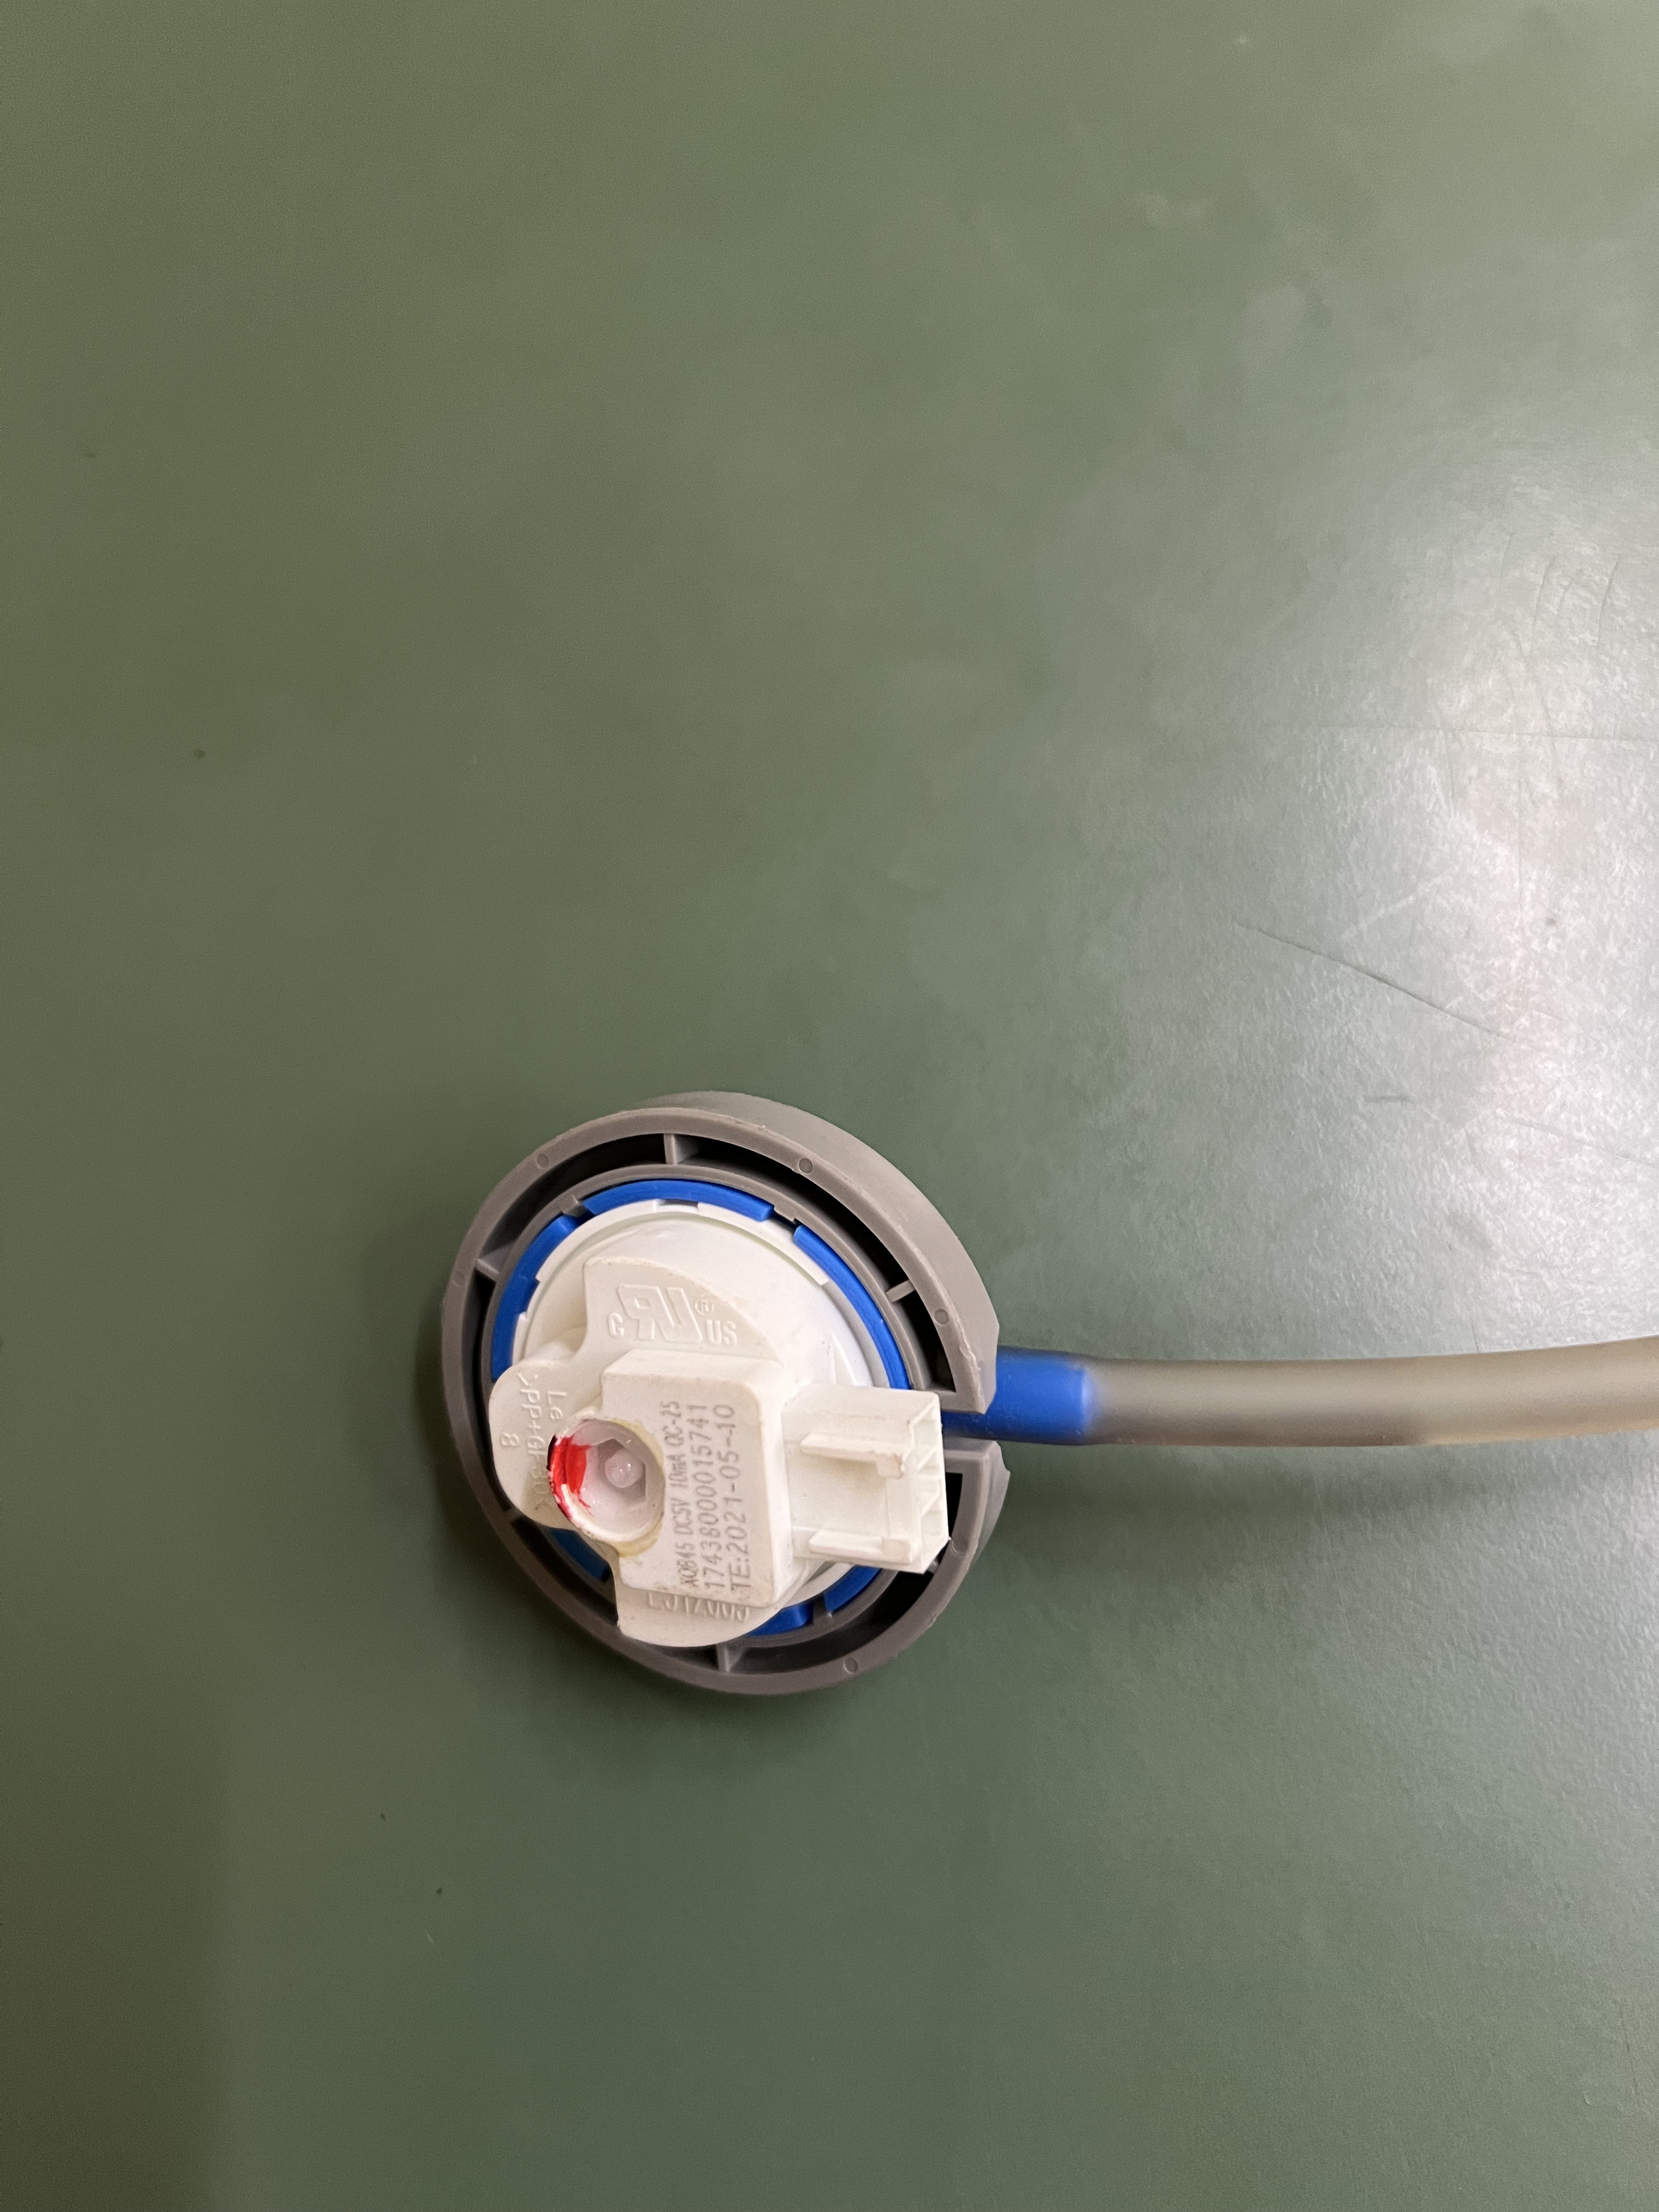pressure_sensor: (432, 1097, 1061, 1710)
